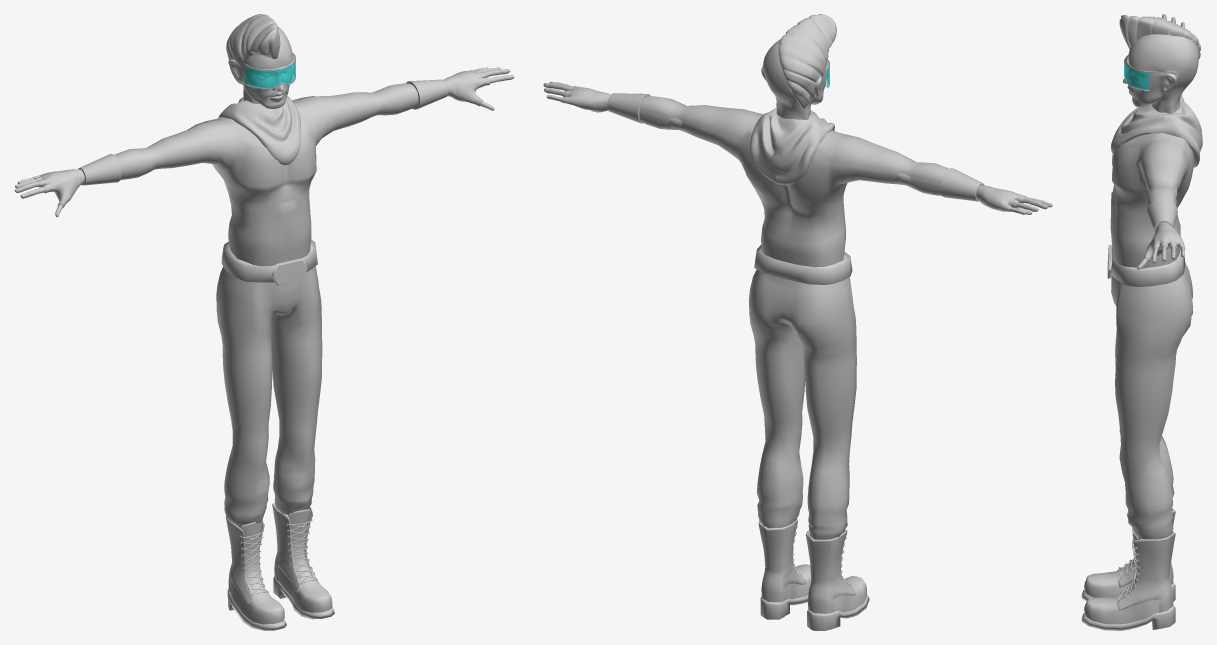
The model's file is Military.fbx.
3 views of the same model, side by side, from view 1: azimuth 30°, elevation 25°; view 2: azimuth 150°, elevation 25°; view 3: azimuth 270°, elevation 25° (orthographic).
Visible parts, largest first — view 1: Military; view 2: Military; view 3: Military.
Part boxes in pixels (left/top/right/bottom): Military: left=14, top=14, right=514, bottom=630; Military: left=543, top=14, right=1052, bottom=630; Military: left=1081, top=14, right=1202, bottom=630.
Size of the model in its own units: 152 by 172 by 31.85.
